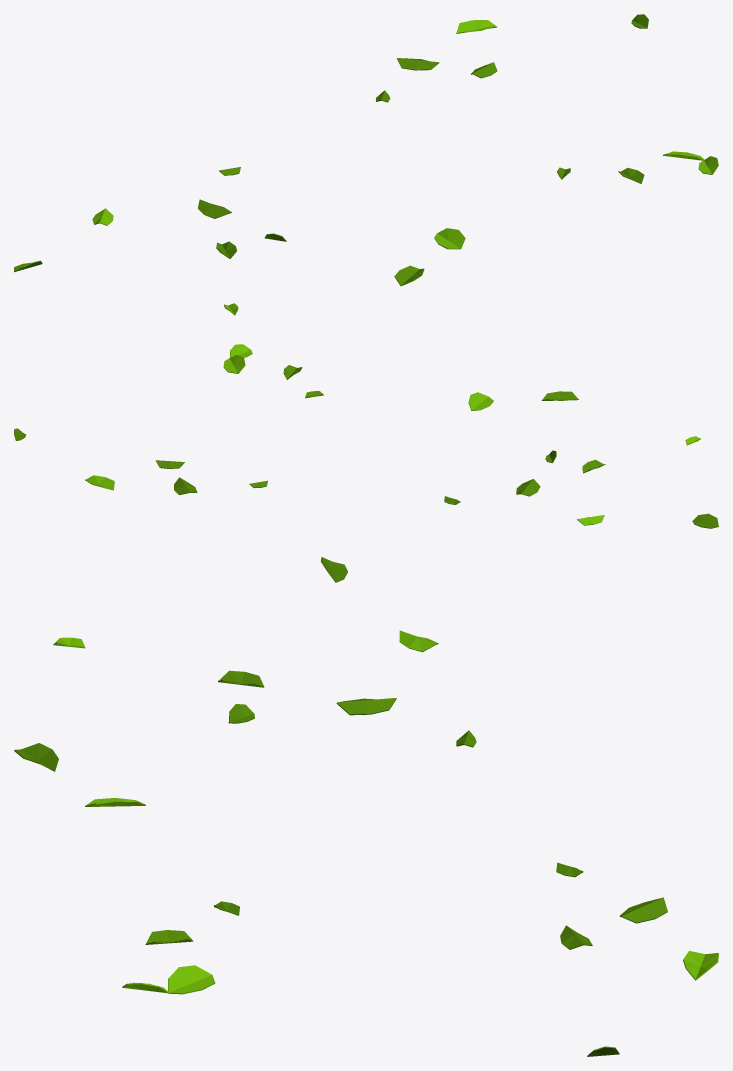
The model's file is Hojas2 .fbx.
3 renders of one model, top to bottom at view 1: azimuth 30°, elevation 25°; view 2: azimuth 150°, elevation 25°; view 3: azimuth 270°, elevation 25°, orthographic. The views are drawn at different scales.
Parts seen in each view (by area): view 1: Hojas 2; view 2: Hojas 2; view 3: Hojas 2.
Boxes of the visible parts, <box> form: Hojas 2: <box>14,14,718,315</box>; Hojas 2: <box>14,344,718,528</box>; Hojas 2: <box>14,557,718,1056</box>.
Bounding box in the file's own units: 491 × 5.86 × 294.
